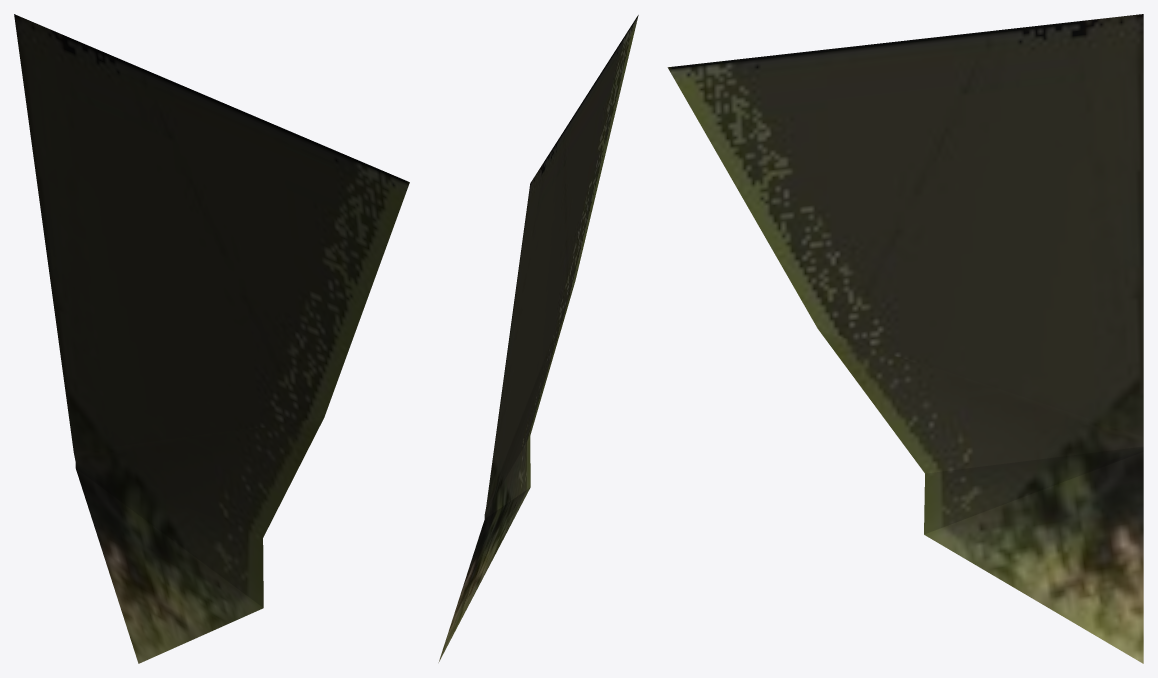
The picture shows the model from 3 angles, left to right: view 1: azimuth 30°, elevation 25°; view 2: azimuth 150°, elevation 25°; view 3: azimuth 270°, elevation 25°; orthographic projection. The views are drawn at different scales.
Size of the model in its own units: 0.6873 by 3.59 by 2.59.
Materials: 1 (1 with a texture image).
